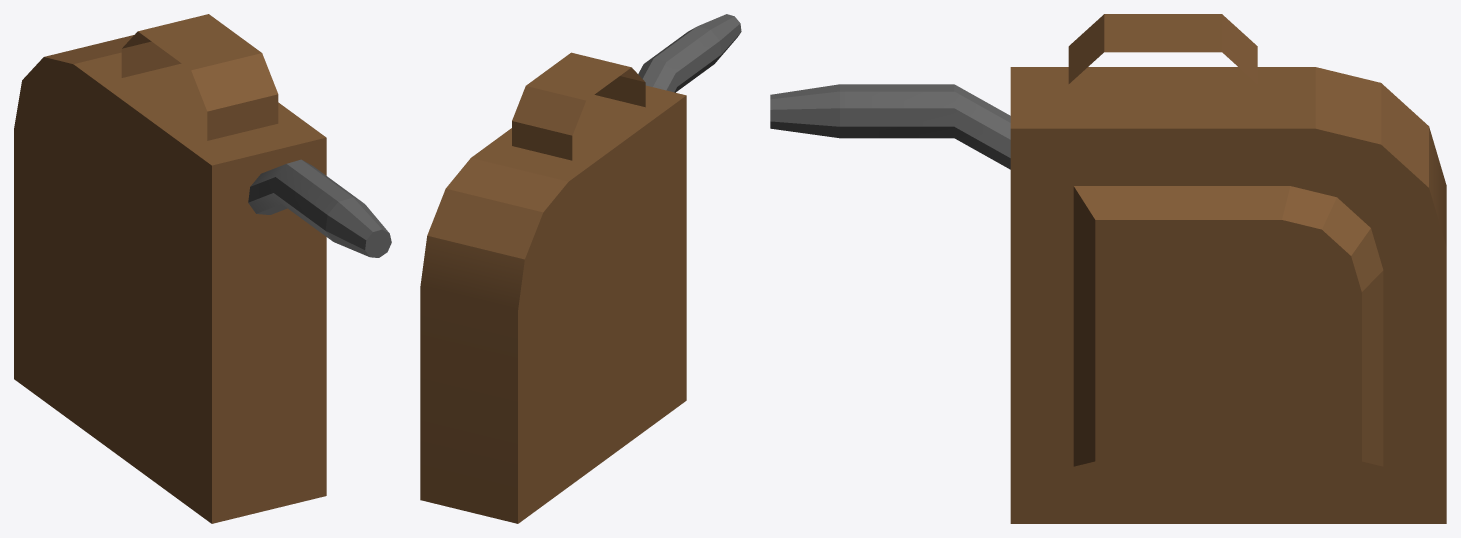
File: Gaz.fbx
3 views of the same model, side by side, from view 1: azimuth 30°, elevation 25°; view 2: azimuth 150°, elevation 25°; view 3: azimuth 270°, elevation 25° (orthographic). The views are drawn at different scales.
Visible parts, largest first — view 1: gaz1; view 2: gaz1; view 3: gaz1.
Part boxes in pixels (<box>): gaz1: <box>14,14,391,523</box>; gaz1: <box>420,14,741,523</box>; gaz1: <box>770,14,1446,523</box>.
Bounding box in the file's own units: 15.67 × 44.24 × 58.94.
